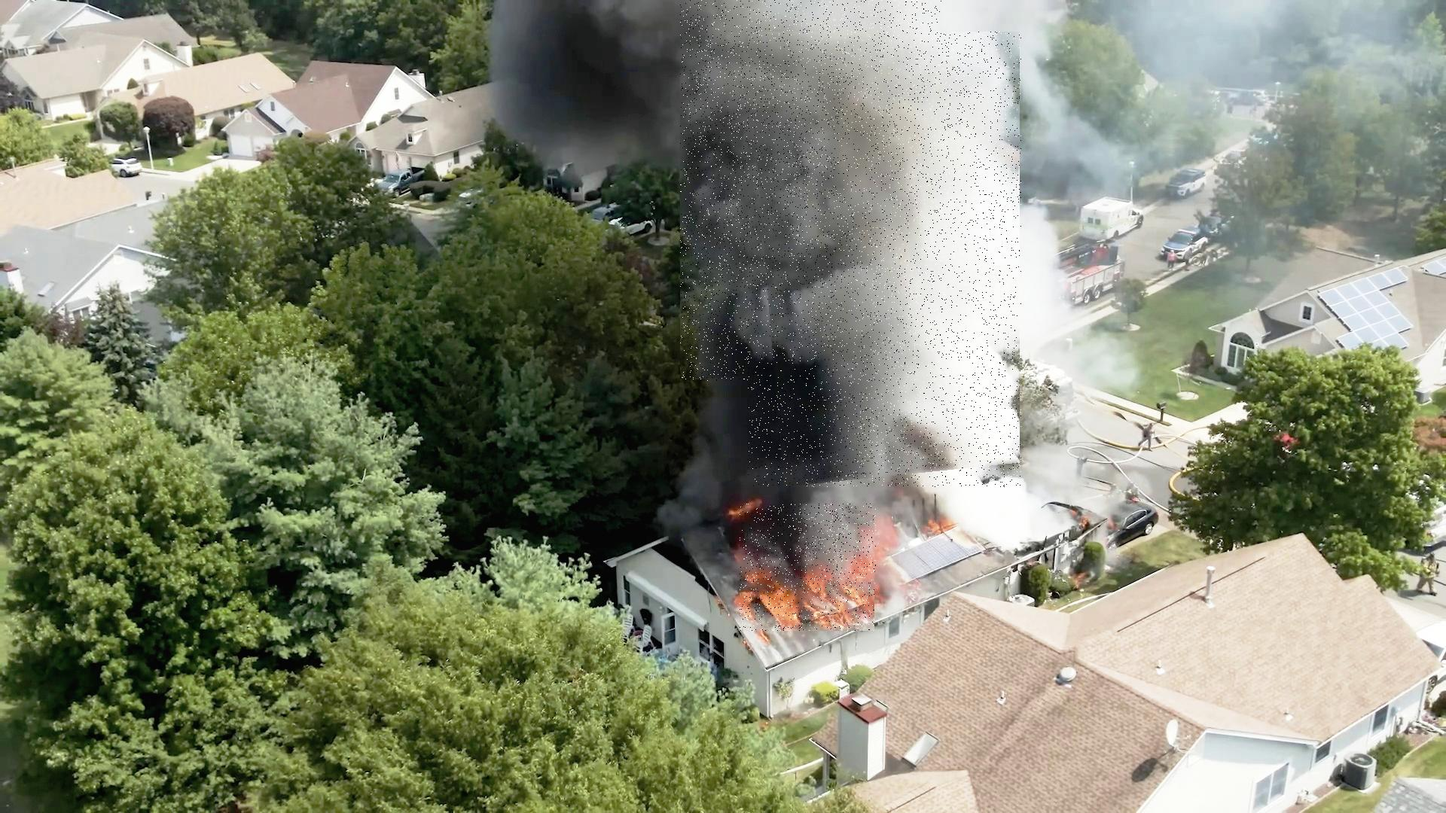fire: (740, 504, 876, 631)
smoke: (748, 32, 1022, 487), (680, 0, 941, 381)
